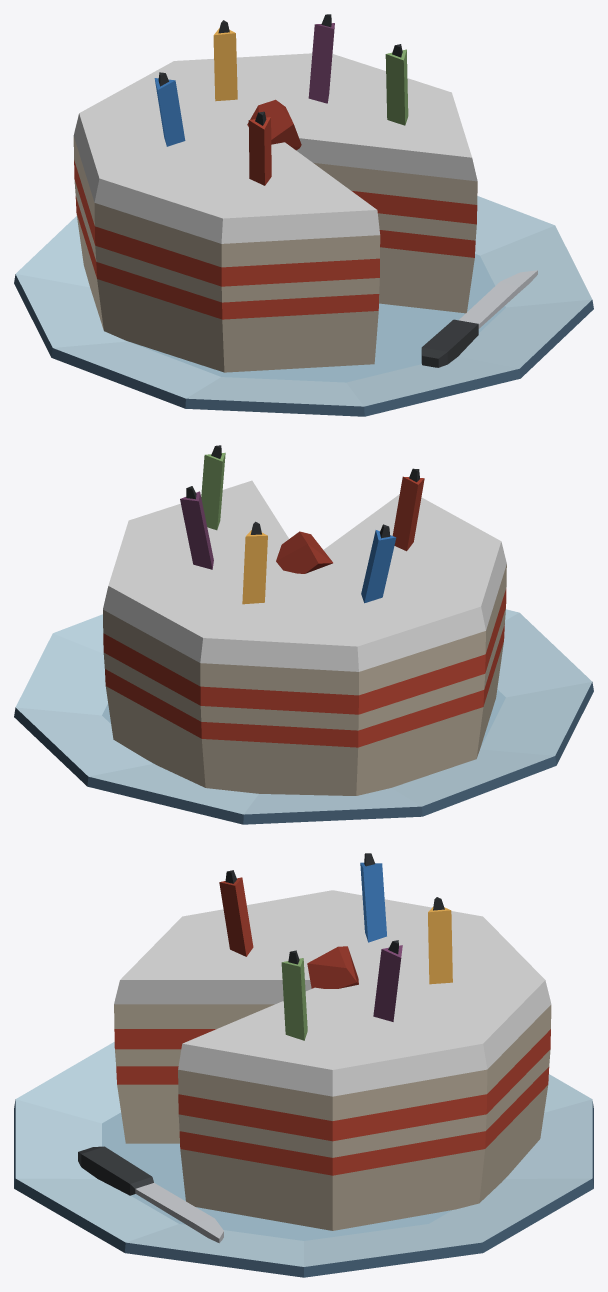
File: SM_Prop_Cake_01.fbx
The picture shows the model from 3 angles, top to bottom: view 1: azimuth 30°, elevation 25°; view 2: azimuth 150°, elevation 25°; view 3: azimuth 270°, elevation 25°; orthographic projection. The views are drawn at different scales.
Visible parts, largest first — view 1: SM_Prop_Cake_01; view 2: SM_Prop_Cake_01; view 3: SM_Prop_Cake_01.
Part boxes in pixels (x1,y1,x2,y2): SM_Prop_Cake_01: (14,14,593,416); SM_Prop_Cake_01: (14,445,593,824); SM_Prop_Cake_01: (14,853,593,1277).
Size of the model in its own units: 55.7 by 28.12 by 52.97.
